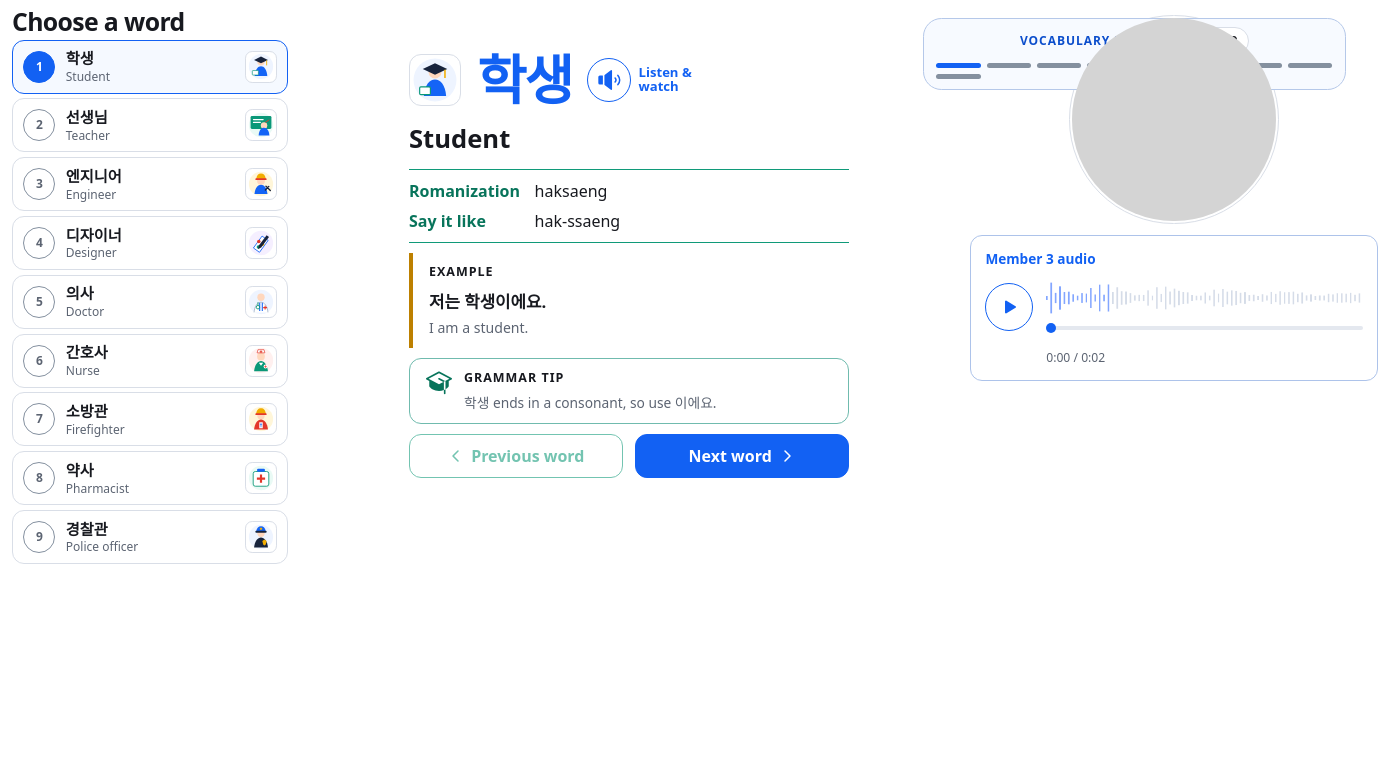
Test: VocabularyJourney › lets a beginner choose any bilingual word without unlocking it first
Step 1. Click the button "8 약사 Pharmacist" → (39, 478), box [12,451,288,505]
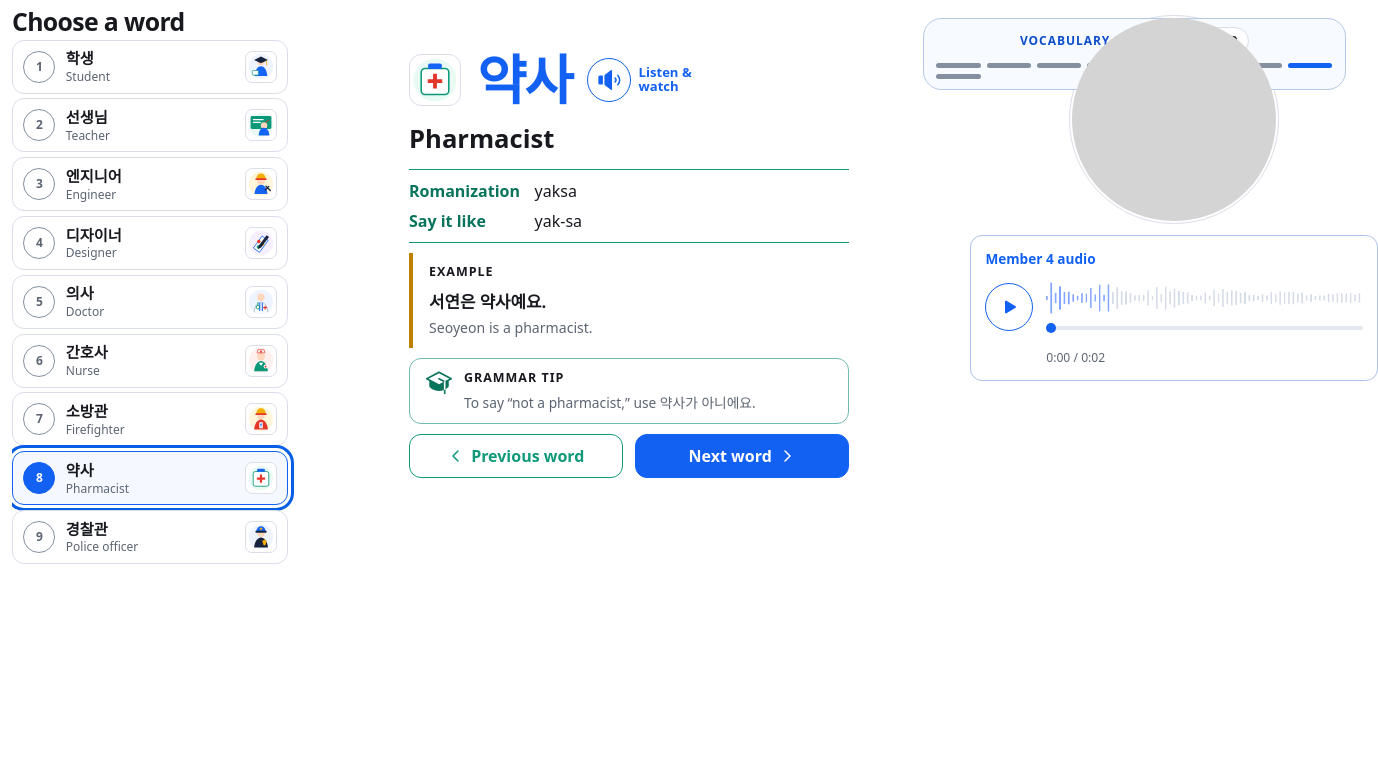
Now the 1st text "Pharmacist" is shown, box [409,121,554,156]
Now the text "yaksa" is shown, box [535,180,577,202]
